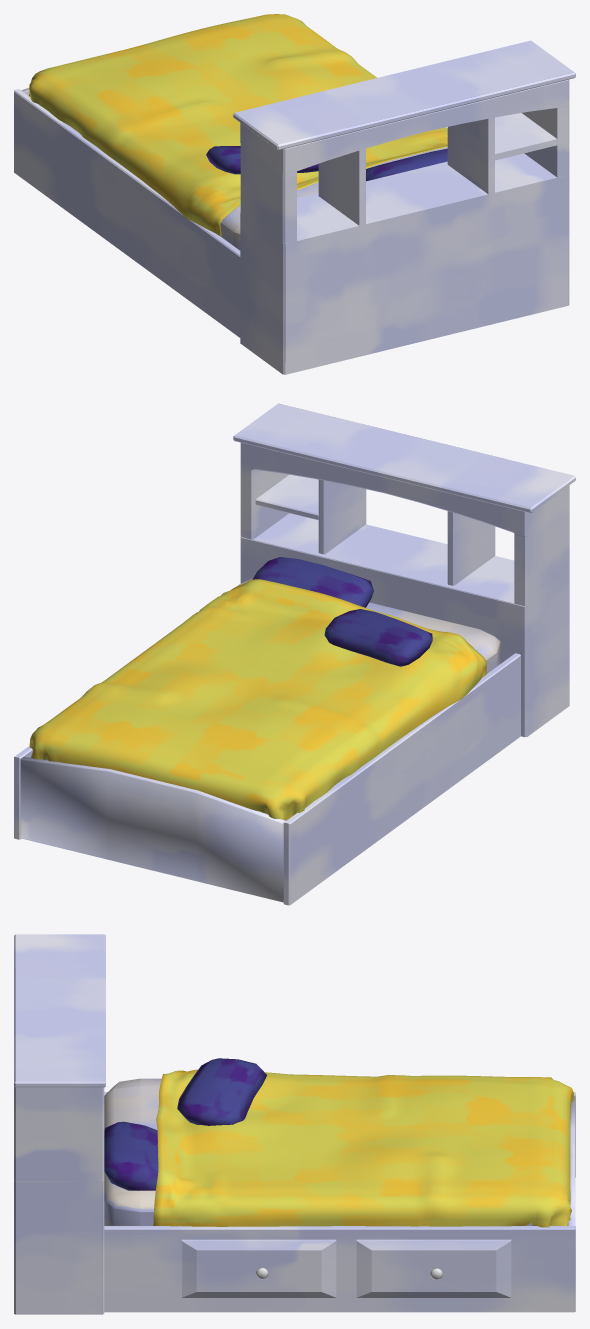
The model's file is adult_bed.fbx.
3 renders of one model, top to bottom at view 1: azimuth 30°, elevation 25°; view 2: azimuth 150°, elevation 25°; view 3: azimuth 270°, elevation 25°, orthographic.
Visible parts, largest first — view 1: Frame, Blanket, Pillow.001, Mattress, Pillow; view 2: Frame, Blanket, Pillow, Pillow.001, Mattress; view 3: Frame, Blanket, Pillow, Mattress, Pillow.001.
Boxes of the visible parts, x1,y1,x2,y2 form: Frame: [14, 40, 575, 374]; Blanket: [29, 14, 447, 236]; Pillow.001: [366, 148, 447, 181]; Mattress: [220, 147, 447, 250]; Pillow: [206, 146, 318, 174]; Frame: [14, 403, 575, 905]; Blanket: [29, 579, 486, 820]; Pillow: [324, 609, 432, 666]; Pillow.001: [252, 557, 373, 607]; Mattress: [43, 578, 500, 820]; Frame: [14, 934, 575, 1314]; Blanket: [153, 1069, 574, 1227]; Pillow: [177, 1058, 266, 1125]; Mattress: [104, 1078, 532, 1225]; Pillow.001: [104, 1121, 158, 1190].
Bounding box in the file's own units: 9.15 × 6.72 × 14.54.
